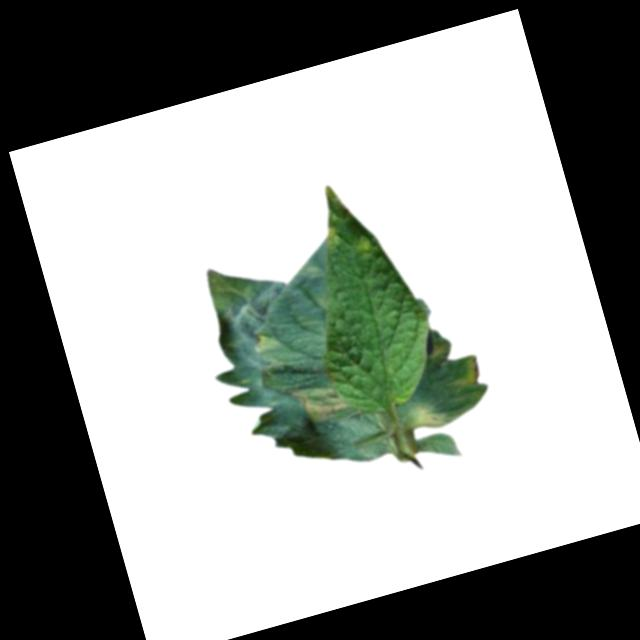Leaf_Mold: (291, 375, 352, 427), (403, 399, 447, 437), (450, 355, 485, 391), (251, 325, 279, 355), (319, 218, 346, 248), (351, 227, 376, 254)
